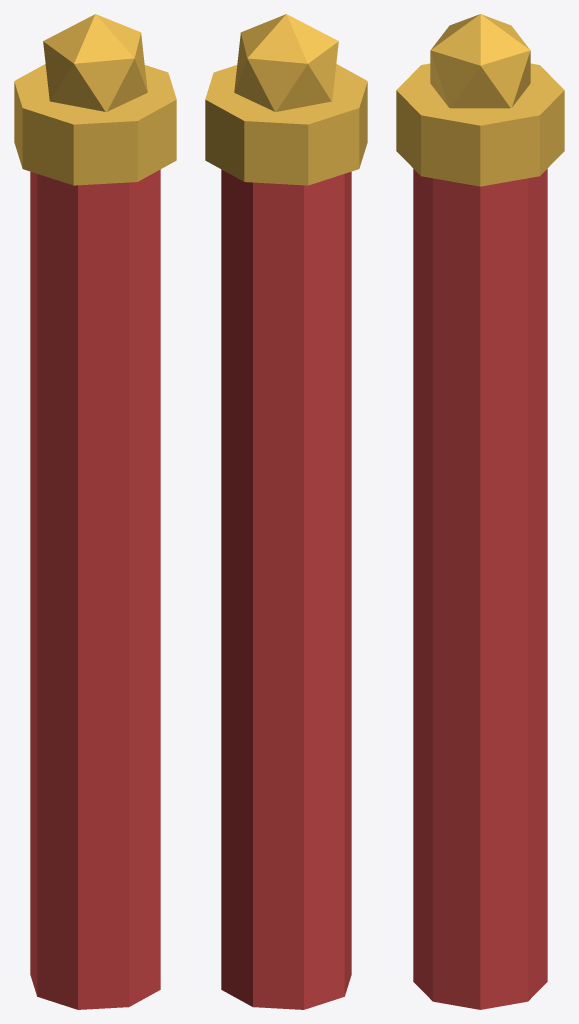
The model's file is bridge_post.glb.
3 views of the same model, side by side, from view 1: azimuth 30°, elevation 25°; view 2: azimuth 150°, elevation 25°; view 3: azimuth 270°, elevation 25° (orthographic).
Visible parts, largest first — view 1: bridge_post; view 2: bridge_post; view 3: bridge_post.
Boxes of the visible parts, x1,y1,x2,y2 form: bridge_post: (14, 14, 176, 1009); bridge_post: (205, 14, 367, 1009); bridge_post: (396, 14, 564, 1009).
Bounding box in the file's own units: 0.2 × 1.27 × 0.2.
